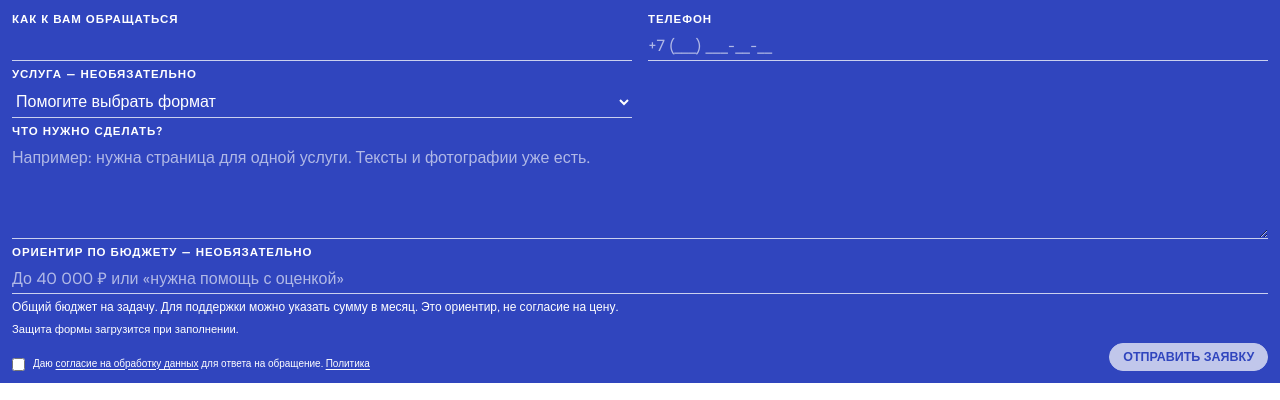
Test: does not request Turnstile until the form is approached or focused
This screenshot has width=1280, height=400.
Expected: the button "Отправить заявку" is disabled, [1109,343,1268,371]
Focus the field labelled "Как к вам обращаться" at coordinates (322, 46), box [12,31,632,61]
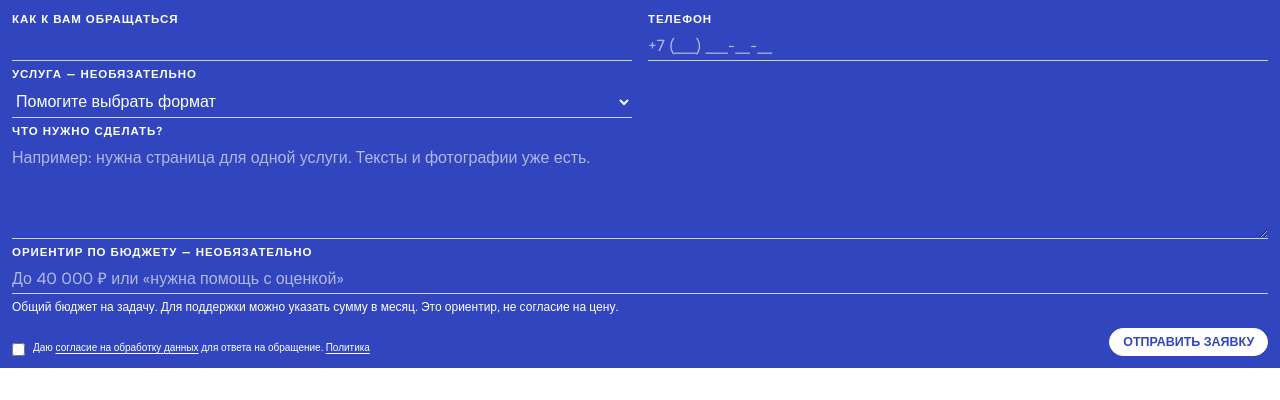
Now the button "Отправить заявку" is enabled, box [1109,328,1268,356]
